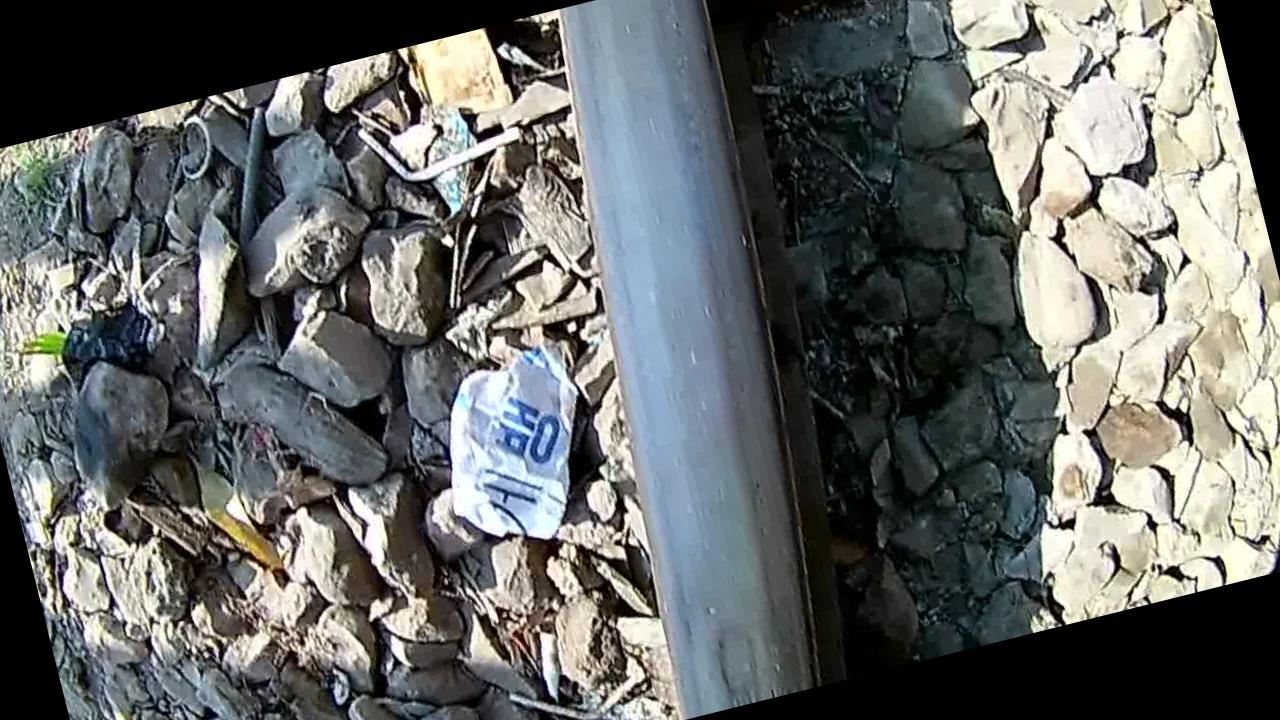bolt_missing: (660, 582, 831, 720)
